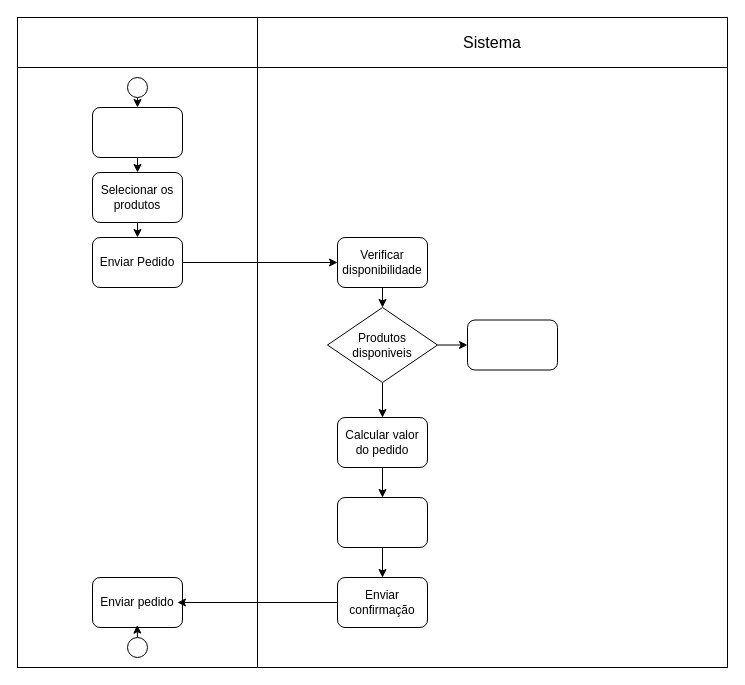
The diagram is 745 pixels wide and 685 high, and some of its shapes have lost their labels. Here are the shapes that lost their labels. From the top down, the centre of each, then its label:
At point (137, 42): "Cliente".
At point (137, 132): "Acessaer o sistema".
At point (512, 344): "Exibir mensagem de indisponibilidade".
At point (382, 522): "Registrar pedido".
